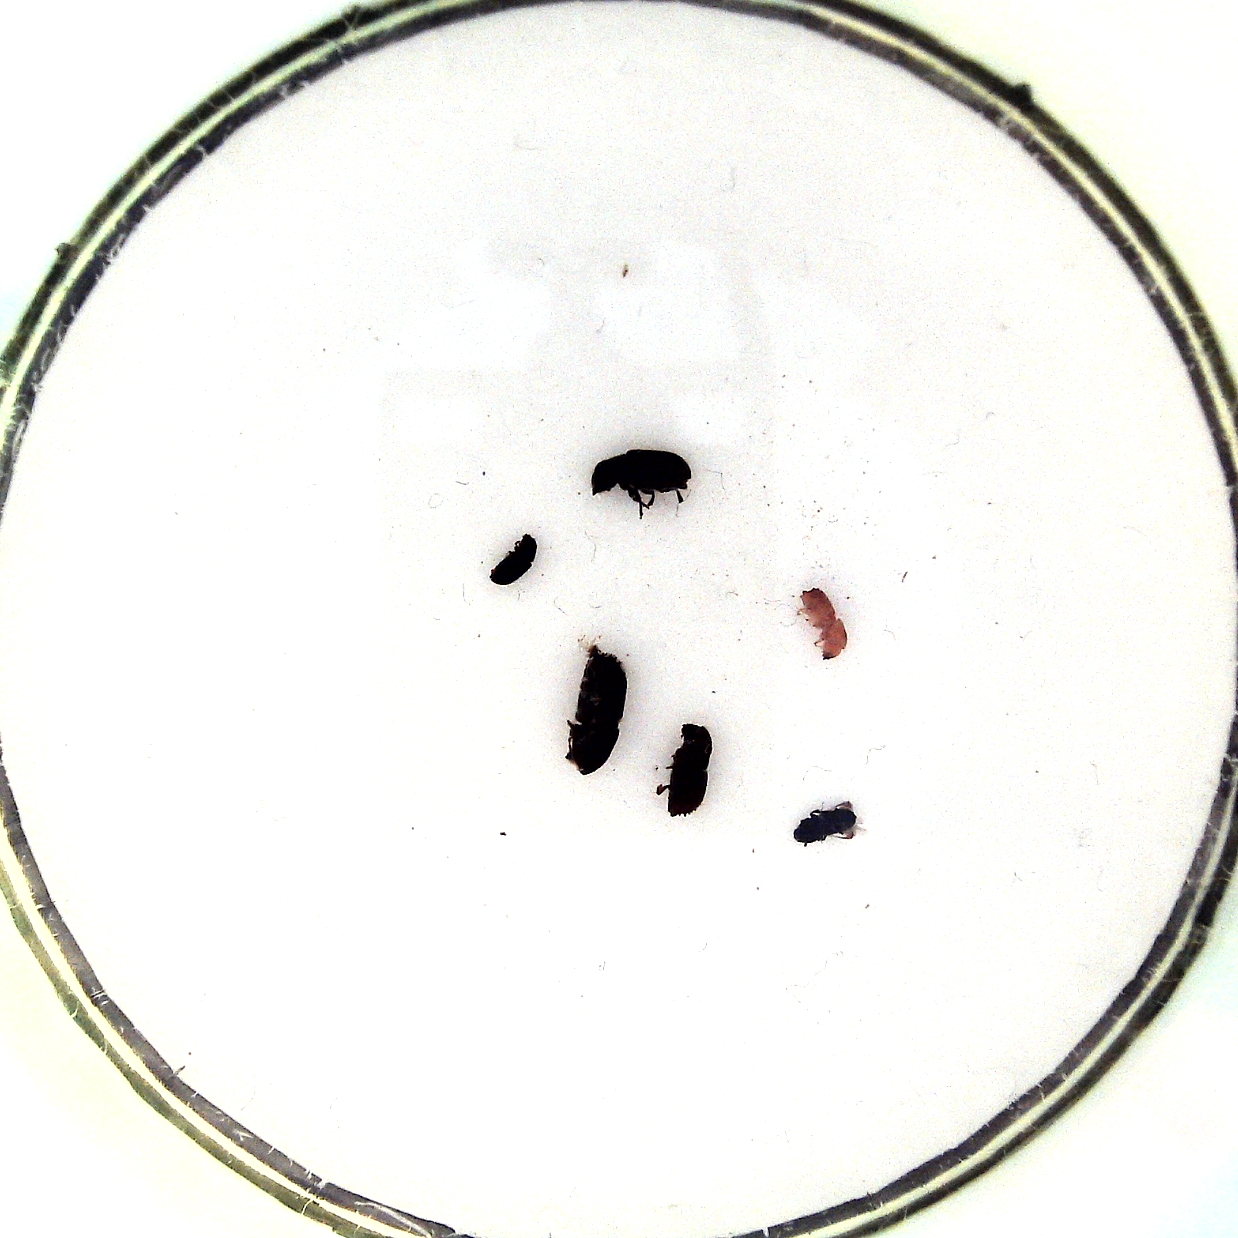Boerner: (561, 641, 630, 777)
Linnaeus: (655, 718, 716, 820)
acuminatus: (791, 584, 855, 663)
armandi: (583, 446, 701, 517)
coleoptera: (788, 797, 870, 849), (486, 529, 539, 590)
